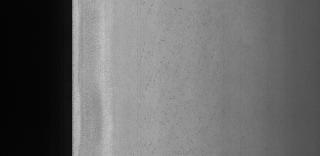silk spot: (136, 7, 200, 132)
